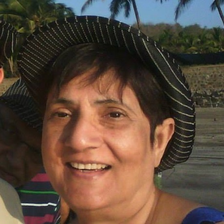no_mask: (43, 68, 155, 211)
